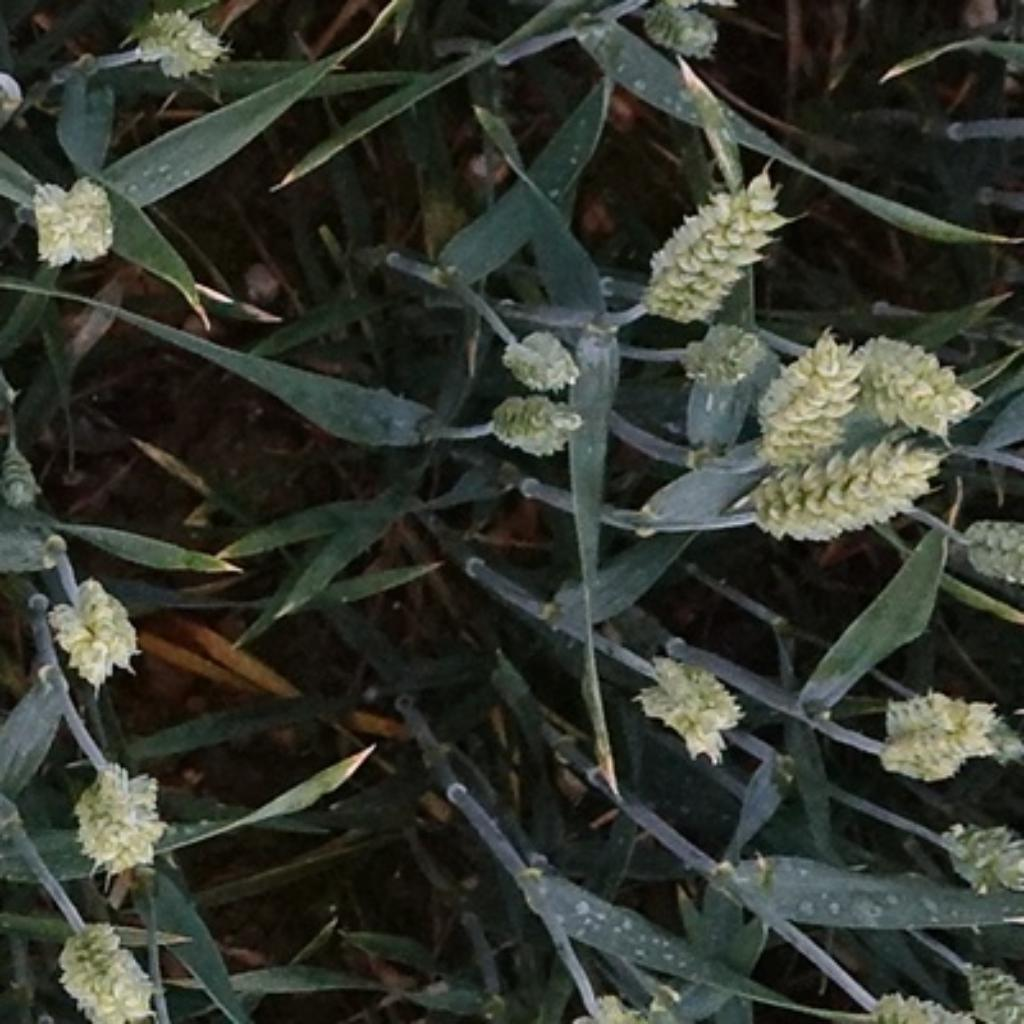0-0: (738, 432, 944, 554), (632, 166, 785, 320), (744, 322, 870, 465), (632, 642, 756, 777), (40, 568, 159, 708), (866, 683, 1015, 788), (842, 320, 972, 424), (64, 757, 171, 883), (48, 911, 161, 1024), (25, 166, 124, 283), (494, 317, 592, 406), (125, 10, 230, 84), (926, 811, 1024, 888), (480, 392, 587, 461), (955, 501, 1024, 603), (668, 322, 762, 396), (855, 972, 962, 1024), (632, 0, 721, 61), (0, 427, 58, 520)
